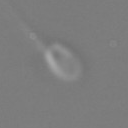normal: (1, 1, 49, 50)
